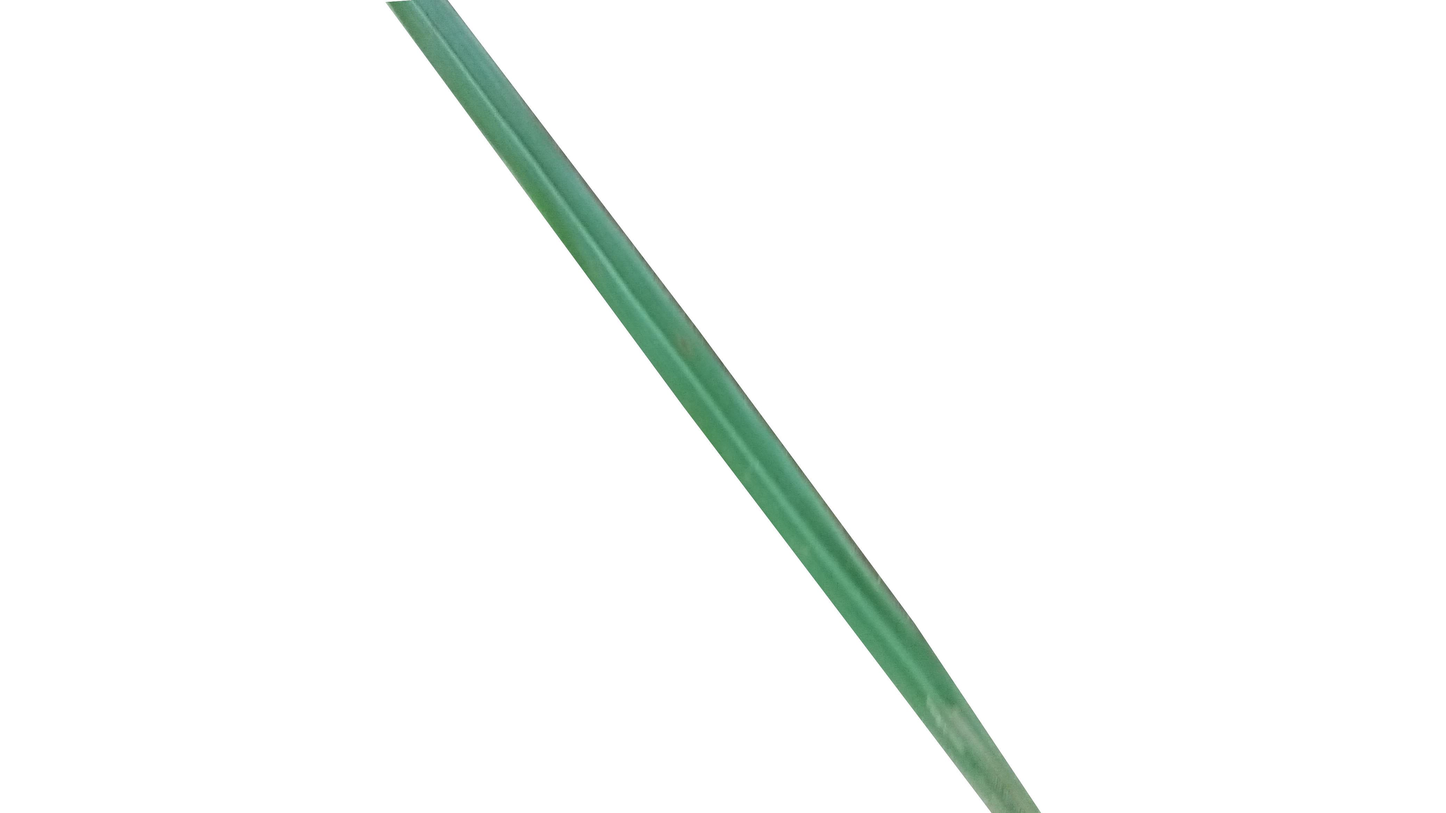Blight: (893, 633, 1070, 813)
